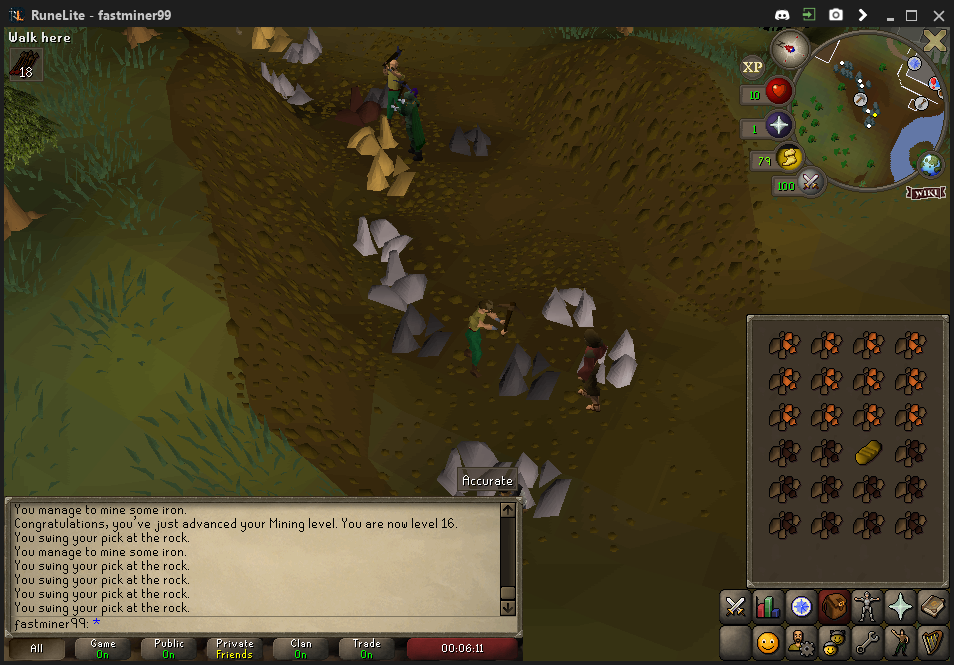depleted: (498, 343, 569, 404), (388, 310, 454, 356), (449, 117, 498, 162), (362, 75, 403, 108)
